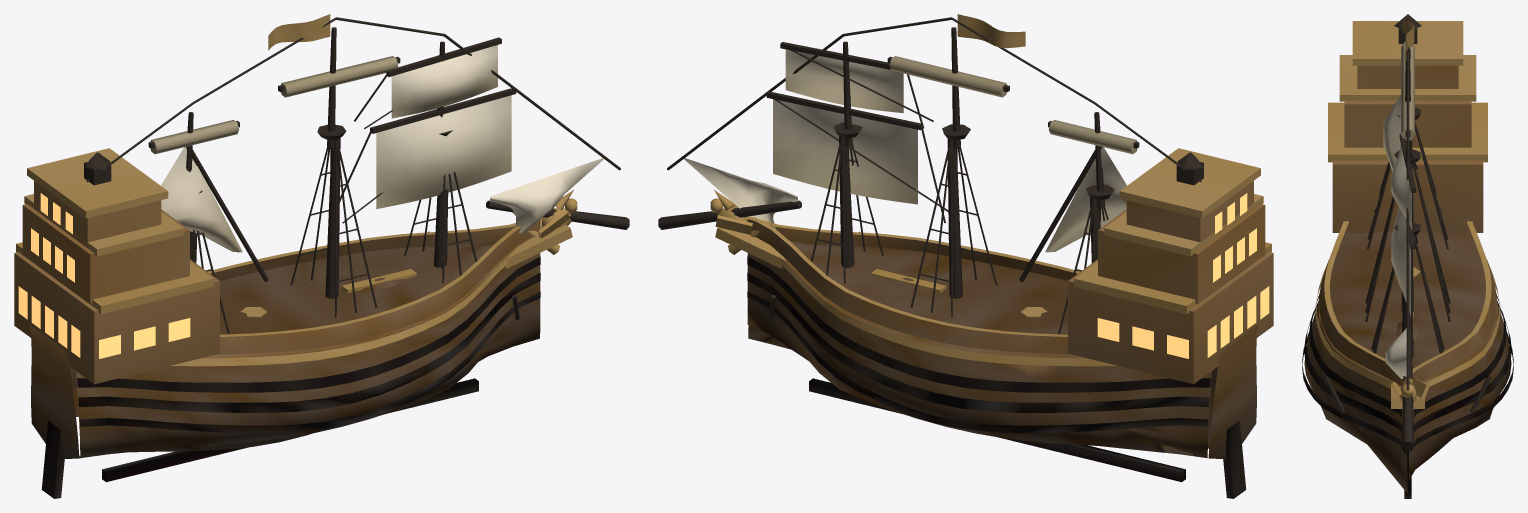
The model's file is garden-hero-titan.glb.
3 renders of one model, left to right at view 1: azimuth 30°, elevation 25°; view 2: azimuth 150°, elevation 25°; view 3: azimuth 270°, elevation 25°, orthographic. The views are drawn at different scales.
Parts seen in each view (by area): view 1: wood-hull, sail-hull, spar-hull, glow-hull, trim-hull; view 2: wood-hull, sail-hull, spar-hull, glow-hull, trim-hull; view 3: wood-hull, spar-hull, sail-hull, trim-hull.
Boxes of the visible parts, x1=… form: wood-hull: x1=14, y1=14, x2=577, y2=498; sail-hull: x1=150, y1=45, x2=606, y2=252; spar-hull: x1=84, y1=17, x2=629, y2=334; glow-hull: x1=18, y1=193, x2=190, y2=358; trim-hull: x1=170, y1=256, x2=508, y2=366; wood-hull: x1=710, y1=14, x2=1273, y2=498; sail-hull: x1=681, y1=49, x2=1137, y2=252; spar-hull: x1=658, y1=17, x2=1203, y2=334; glow-hull: x1=1097, y1=193, x2=1269, y2=358; trim-hull: x1=779, y1=256, x2=1117, y2=366; wood-hull: x1=1302, y1=18, x2=1513, y2=498; spar-hull: x1=1324, y1=14, x2=1491, y2=449; sail-hull: x1=1383, y1=42, x2=1414, y2=378; trim-hull: x1=1315, y1=260, x2=1500, y2=389.
Bounding box in the file's own units: 13.38 × 9.08 × 4.49.
